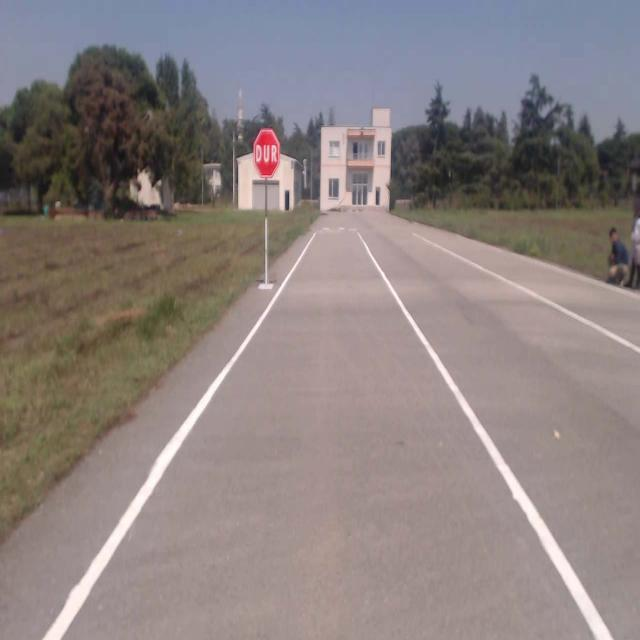dur: (252, 130, 280, 181)
